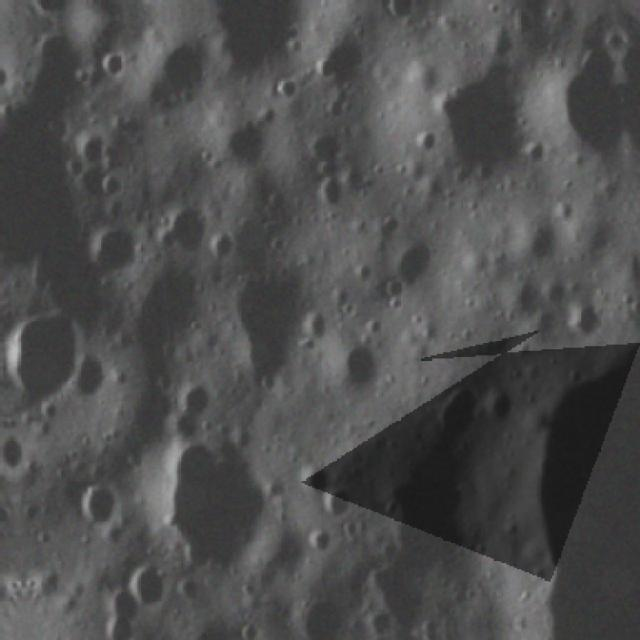crater: (406, 34, 529, 195), (516, 30, 626, 202), (155, 438, 277, 568), (221, 263, 324, 394), (0, 289, 105, 405), (138, 20, 215, 117), (422, 364, 501, 456), (70, 215, 144, 287), (164, 369, 227, 445), (93, 575, 156, 640), (207, 112, 265, 179), (156, 208, 218, 262), (72, 473, 128, 532), (289, 124, 342, 178), (314, 478, 364, 531), (68, 118, 115, 172), (293, 520, 336, 572), (121, 561, 168, 607), (87, 166, 130, 212), (234, 598, 281, 640), (290, 460, 333, 502), (207, 225, 244, 267)
